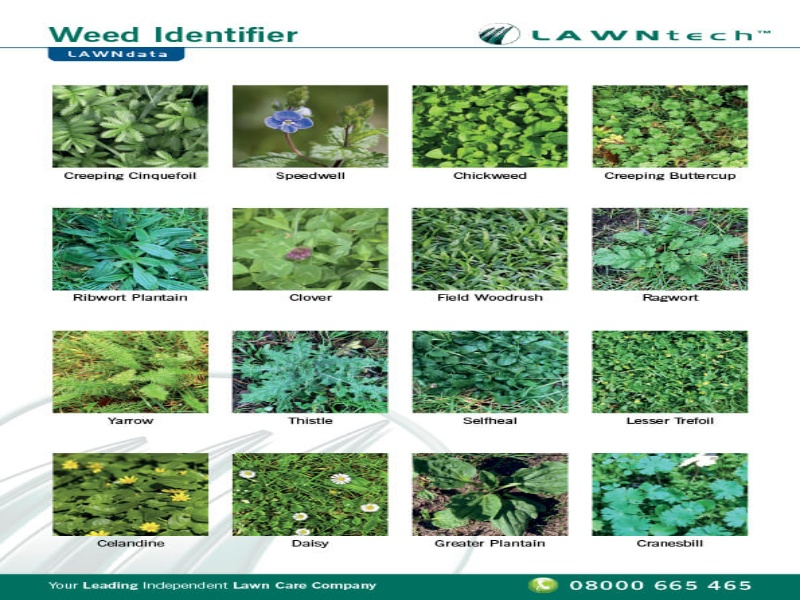weed: (421, 454, 564, 530), (601, 458, 741, 534), (599, 211, 738, 284), (240, 338, 380, 407), (602, 95, 706, 163), (425, 336, 543, 394), (98, 343, 190, 401), (78, 212, 181, 241), (111, 244, 174, 287), (155, 101, 201, 134), (103, 109, 148, 142), (57, 119, 97, 154)
